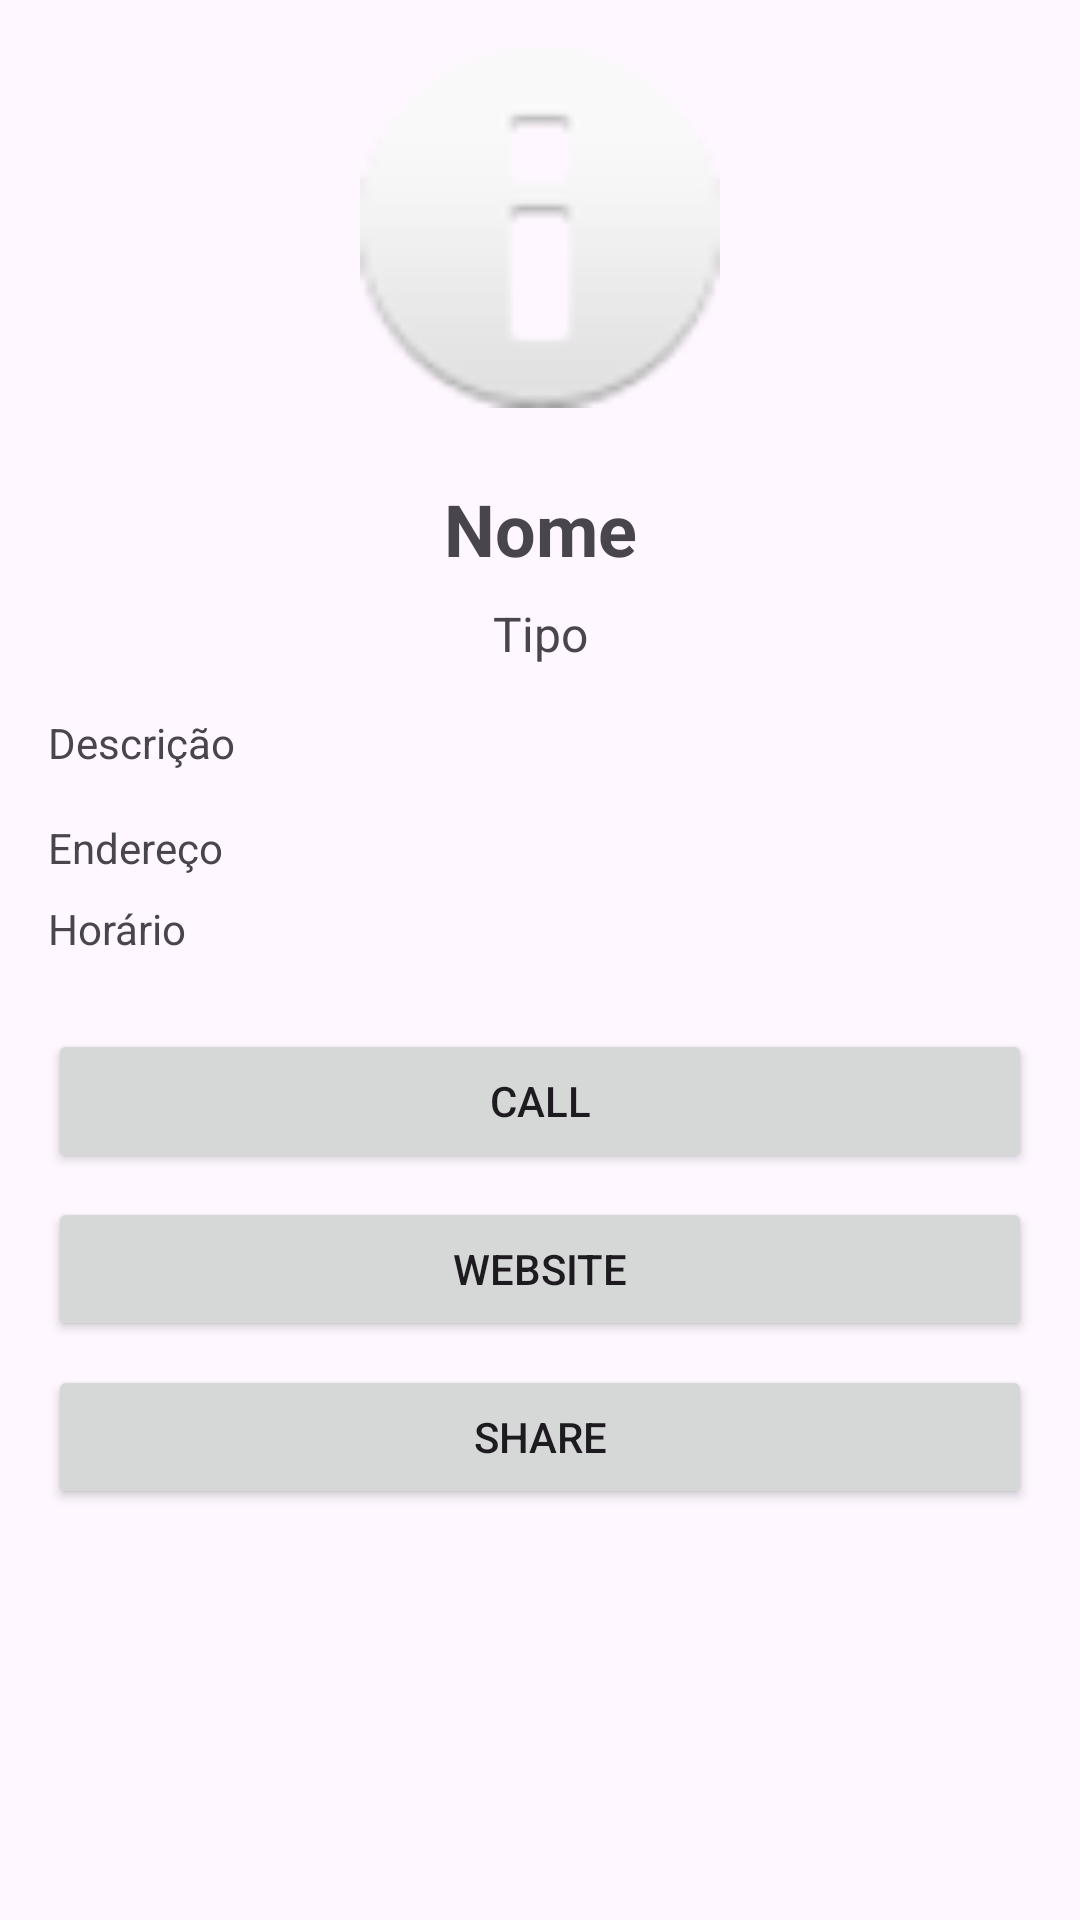

Named icons in this screenshot (1080*1920) and their centers, (x=x, y=y):
info: (x=540, y=261)
